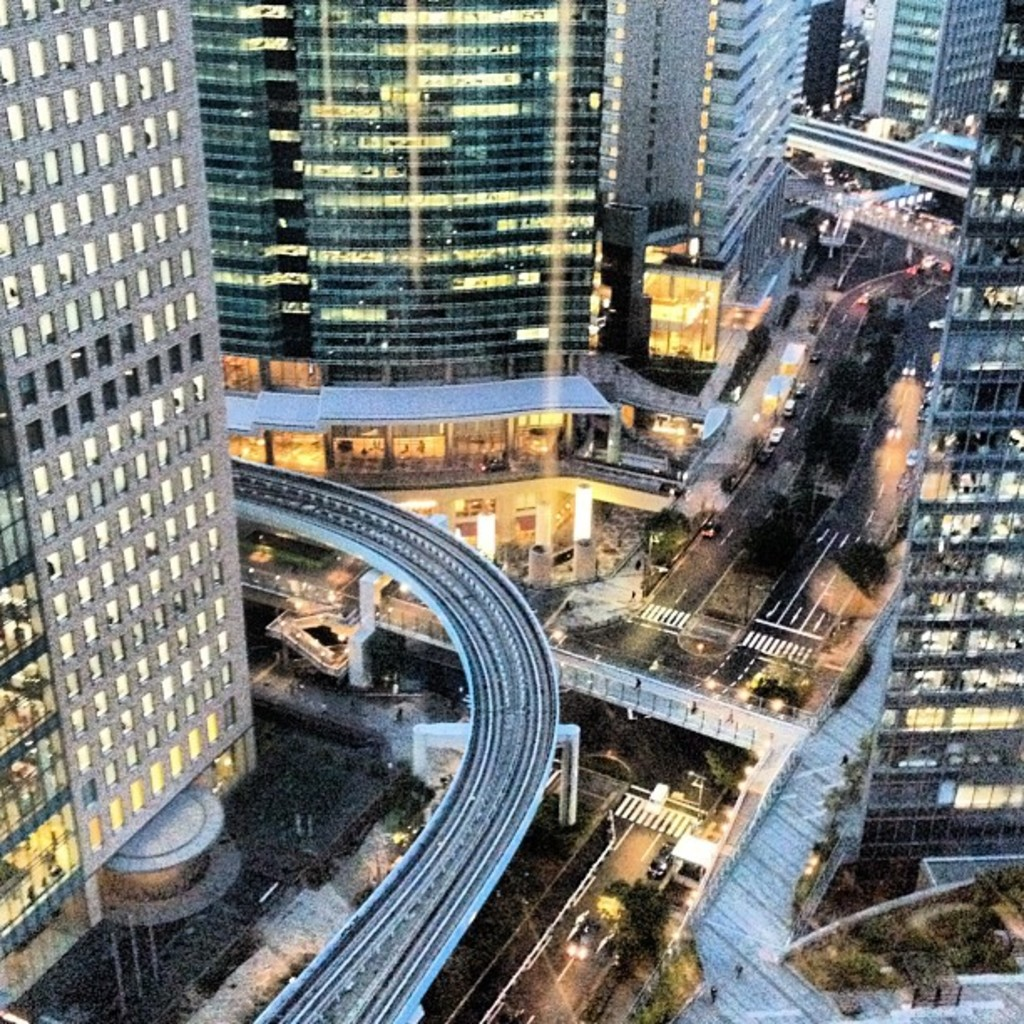Tree: (577, 881, 711, 982)
